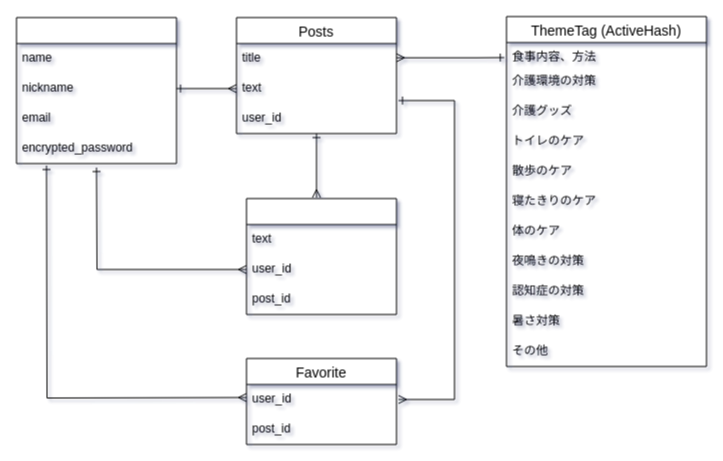
Image size: 723x461. Some labels were removed from this diagram. The shapes that lost their labels are listed below. From the top down, each one's box as (x1, y1, x2, y2) in pixels, then its label:
(16, 16, 176, 164): Users
(246, 198, 396, 314): Comments
